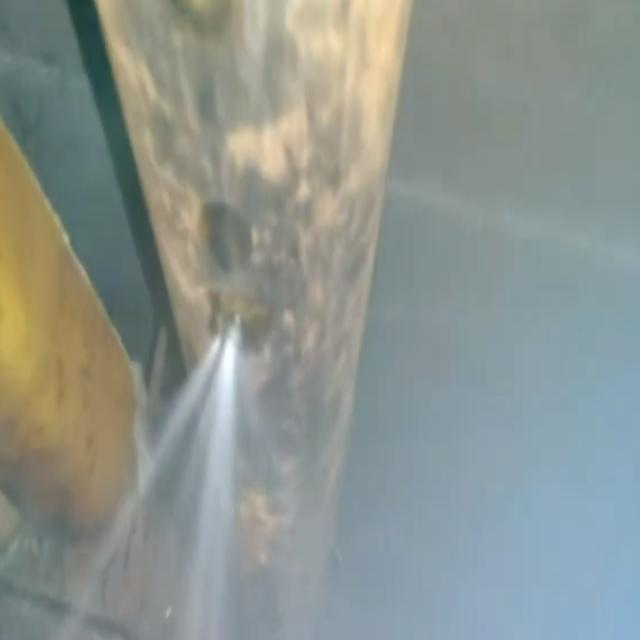leak: (54, 320, 244, 640)
